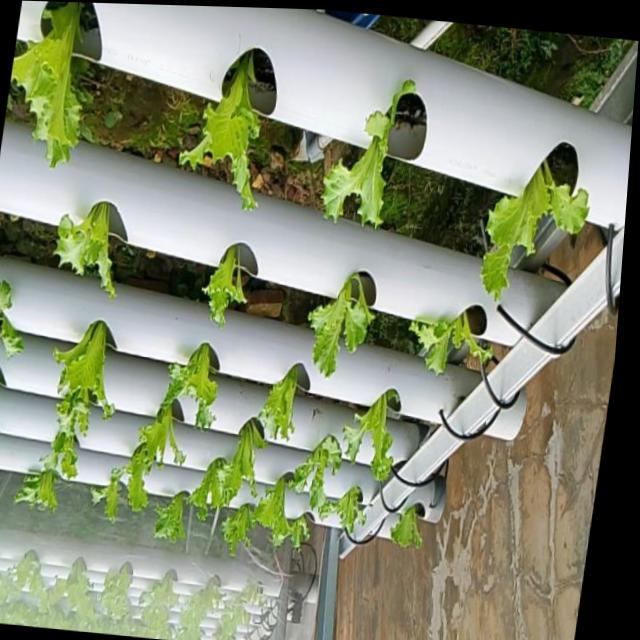Baby: (486, 162, 595, 304), (325, 81, 420, 229), (181, 50, 262, 211), (11, 2, 85, 167), (311, 276, 377, 381), (115, 400, 188, 491), (57, 202, 117, 299), (207, 418, 270, 509), (414, 318, 500, 381), (346, 392, 403, 485), (148, 464, 208, 550), (292, 435, 346, 518), (256, 476, 312, 551), (61, 320, 109, 405), (56, 369, 100, 458), (205, 247, 248, 329), (261, 365, 305, 442), (183, 344, 220, 428), (322, 488, 370, 541), (0, 279, 26, 358), (93, 466, 130, 521), (17, 468, 60, 511), (224, 504, 258, 556), (393, 512, 426, 554)
